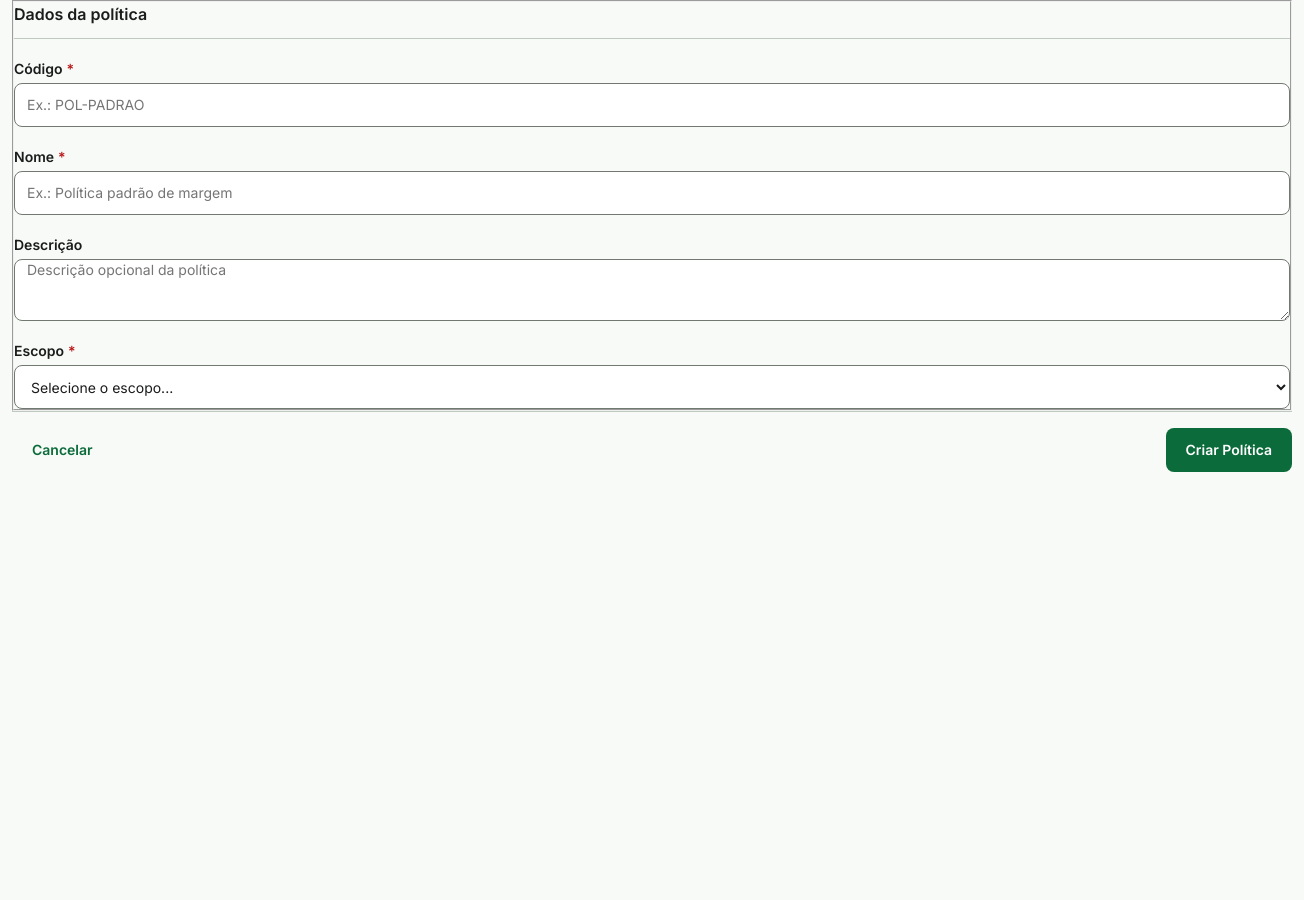
Test: Policy form validation (UI-FORM01..02) › UI-FORM02b: switching scope clears the selector
In the field labelled "Código*": (652, 105) [14,83,1290,127], type "POL-X"
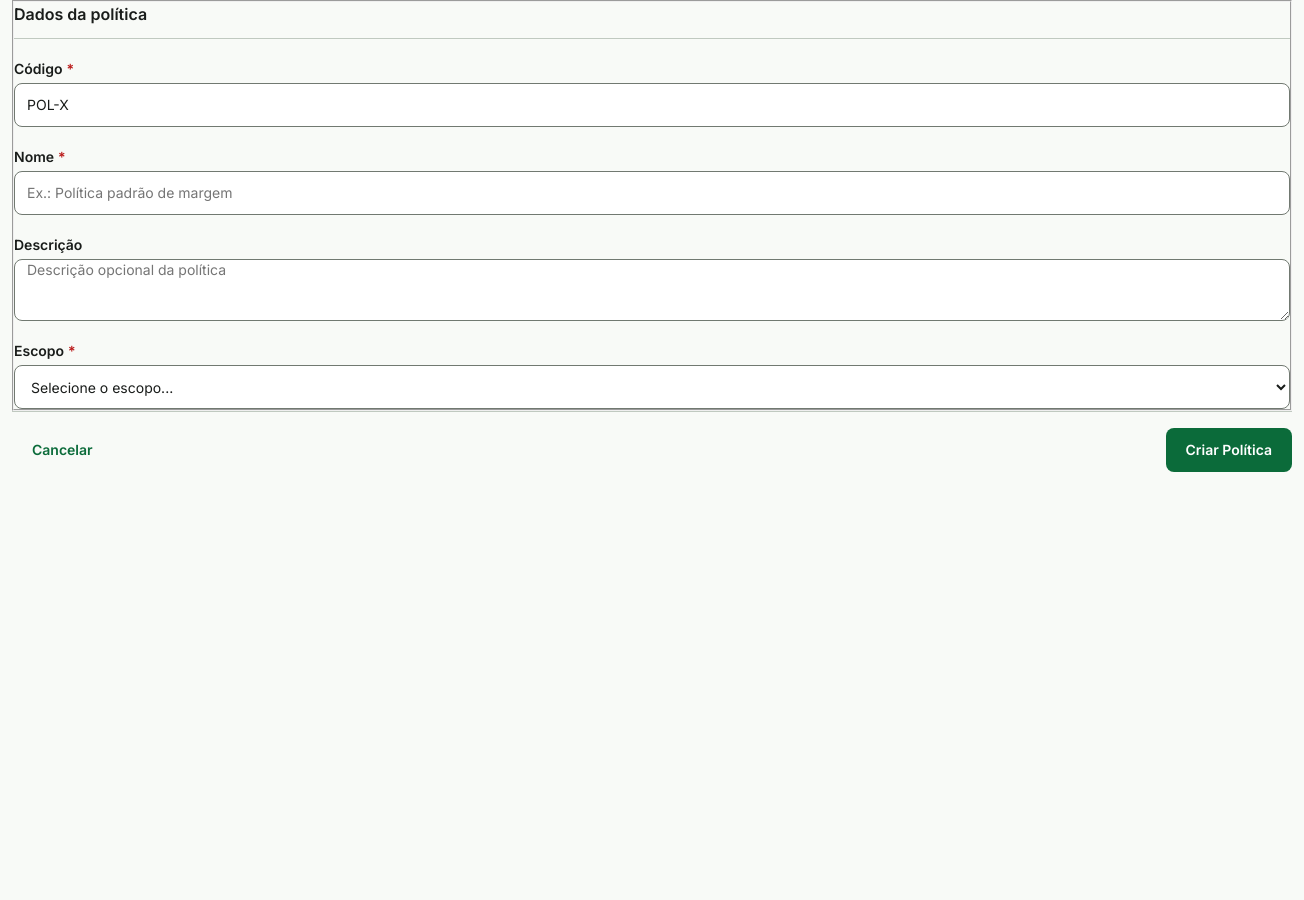
In the field labelled "Nome*": (652, 193) [14,171,1290,215], type "Política X"
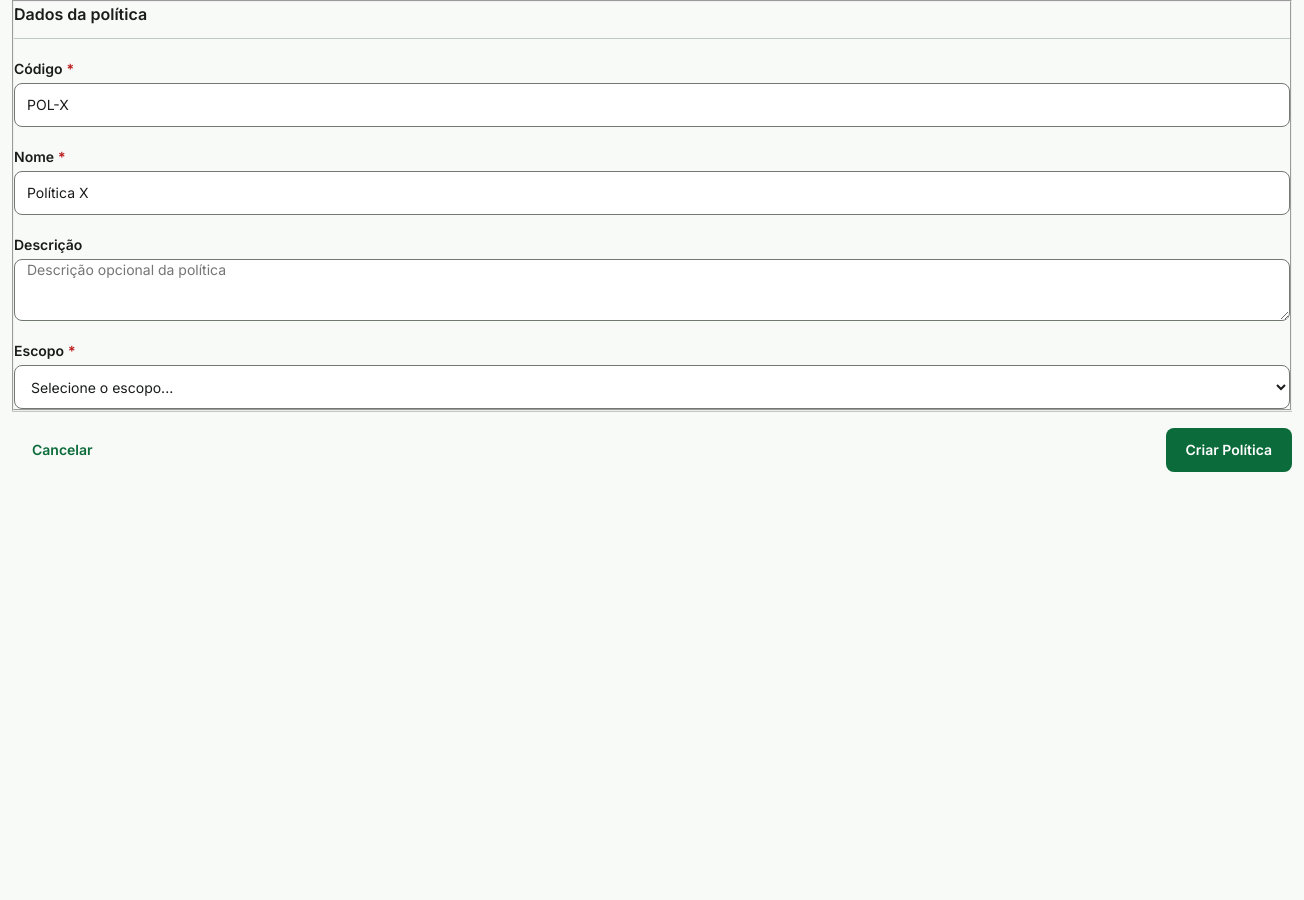
Select "Item do catálogo" in the dropdown labelled "Escopo*": (652, 387) [14,365,1290,409]
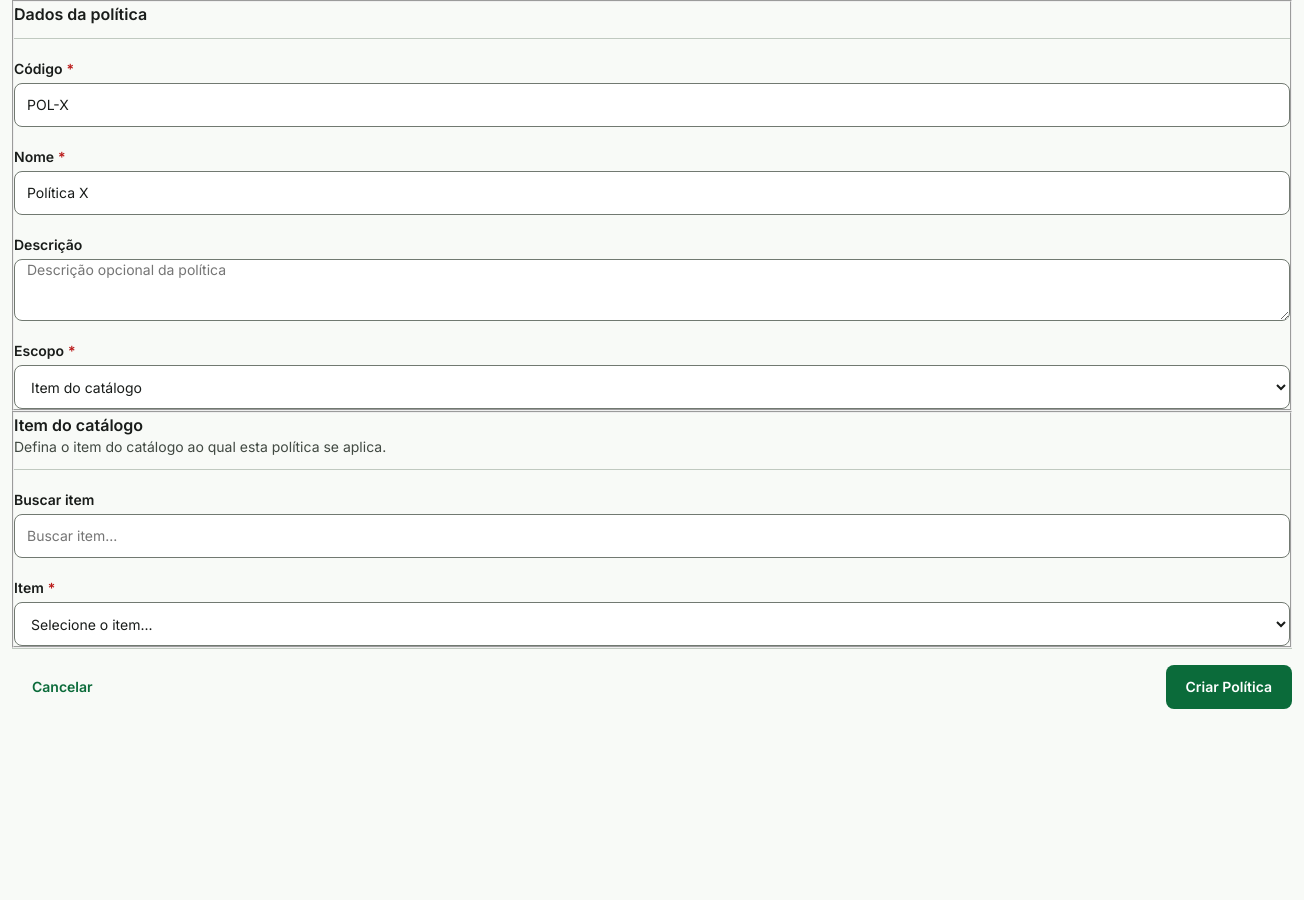
Expected: the field labelled "Buscar item" is shown, [14,514,1290,558]
Select "Padrão" in the dropdown labelled "Escopo*": (652, 387) [14,365,1290,409]
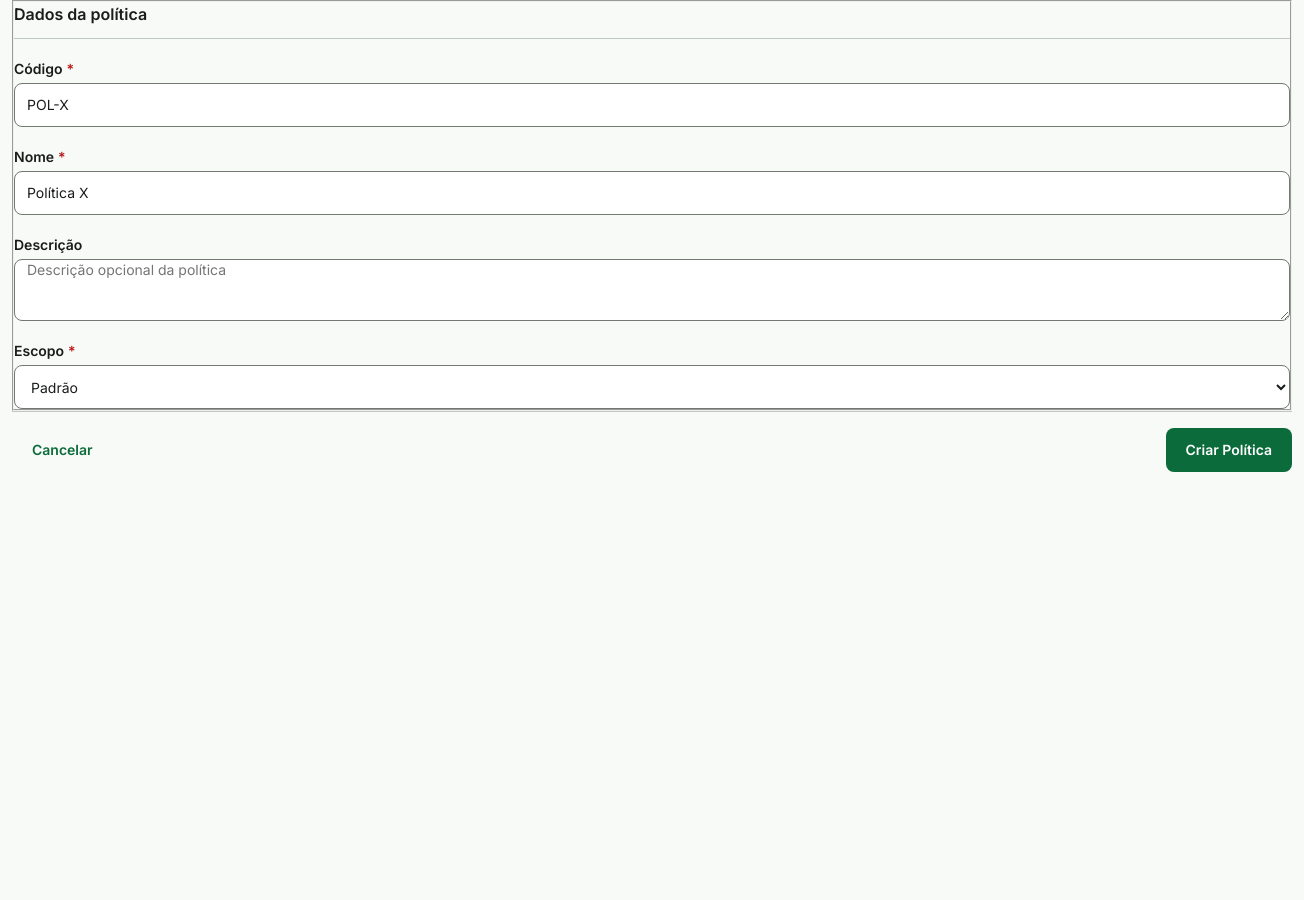
Expected: the label labelled "Buscar item" is gone
